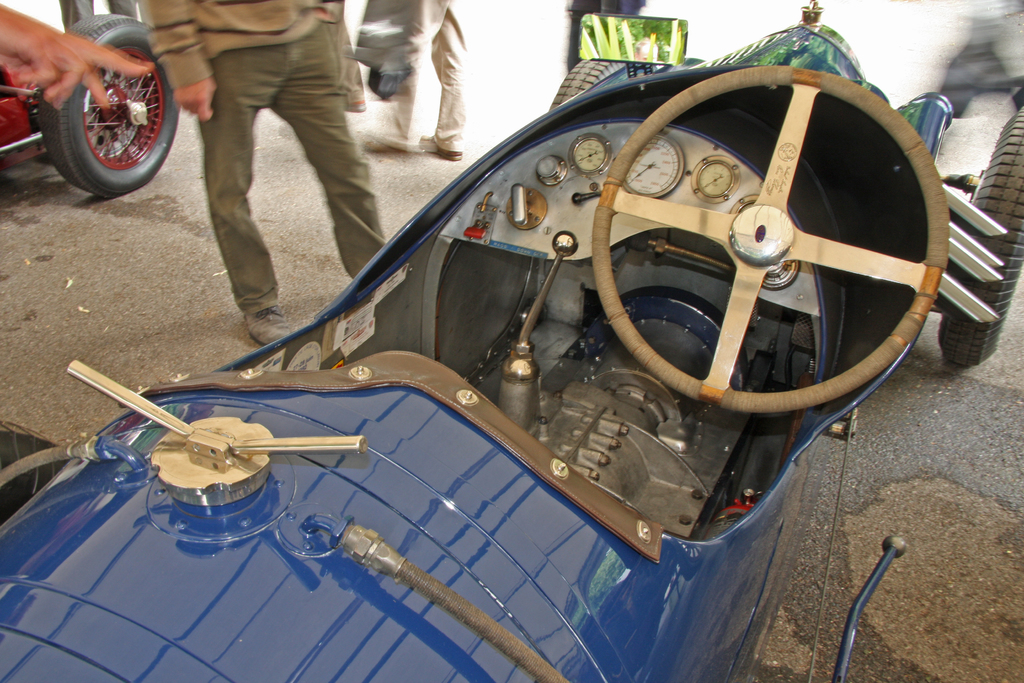Car: (147, 25, 971, 634), (0, 10, 188, 199)
